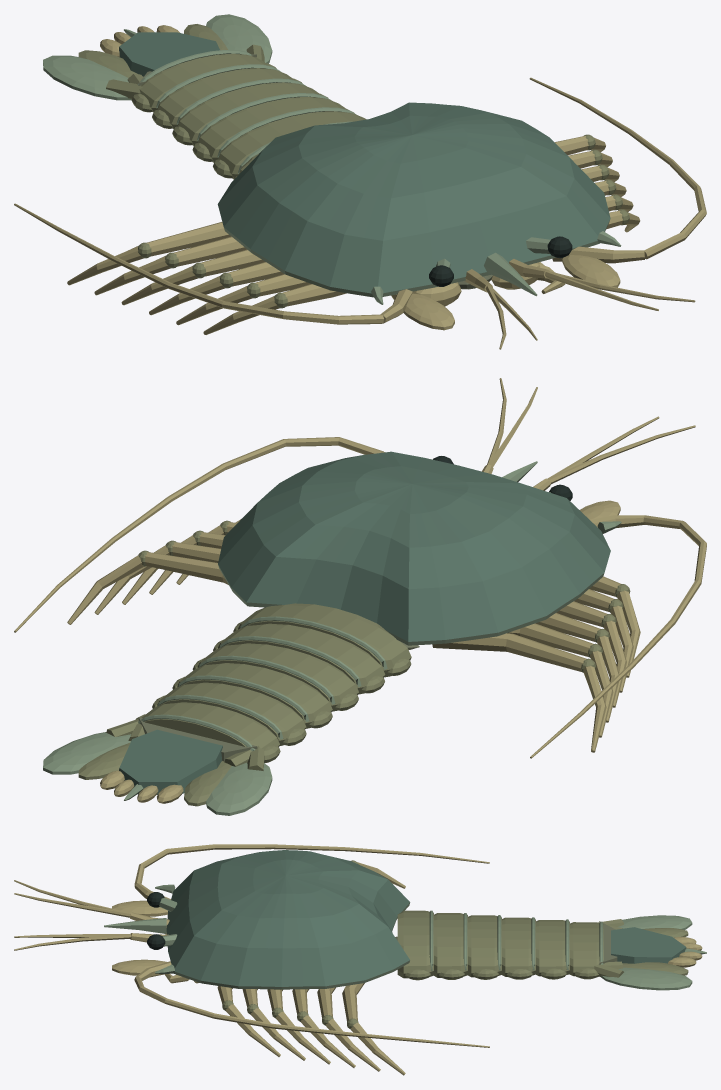
3 renders of one model, top to bottom at view 1: azimuth 30°, elevation 25°; view 2: azimuth 150°, elevation 25°; view 3: azimuth 270°, elevation 25°, orthographic. The views are drawn at different scales.
Parts seen in each view (by area): view 1: Pygocephalus-shield, Pygocephalus-limbs, Pygocephalus-abdomen, Pygocephalus-rim, Pygocephalus-eyes; view 2: Pygocephalus-shield, Pygocephalus-abdomen, Pygocephalus-limbs, Pygocephalus-rim, Pygocephalus-underside; view 3: Pygocephalus-shield, Pygocephalus-abdomen, Pygocephalus-limbs, Pygocephalus-rim, Pygocephalus-eyes.
Part boxes in pixels (x1,y1,x2,y2): Pygocephalus-shield: (119,32,610,293); Pygocephalus-limbs: (14,25,706,349); Pygocephalus-abdomen: (78,24,629,308); Pygocephalus-rim: (43,14,621,304); Pygocephalus-eyes: (429,236,572,286); Pygocephalus-shield: (119,451,610,794); Pygocephalus-abdomen: (78,520,630,806); Pygocephalus-limbs: (14,378,706,803); Pygocephalus-rim: (43,461,621,815); Pygocephalus-underside: (138,642,419,761); Pygocephalus-shield: (166,850,686,986); Pygocephalus-abdomen: (222,860,688,1029); Pygocephalus-limbs: (14,844,702,1075); Pygocephalus-rim: (104,884,706,990); Pygocephalus-eyes: (147,892,165,949).
Bounding box in the file's own units: 0.0325 × 0.00858 × 0.0506.
